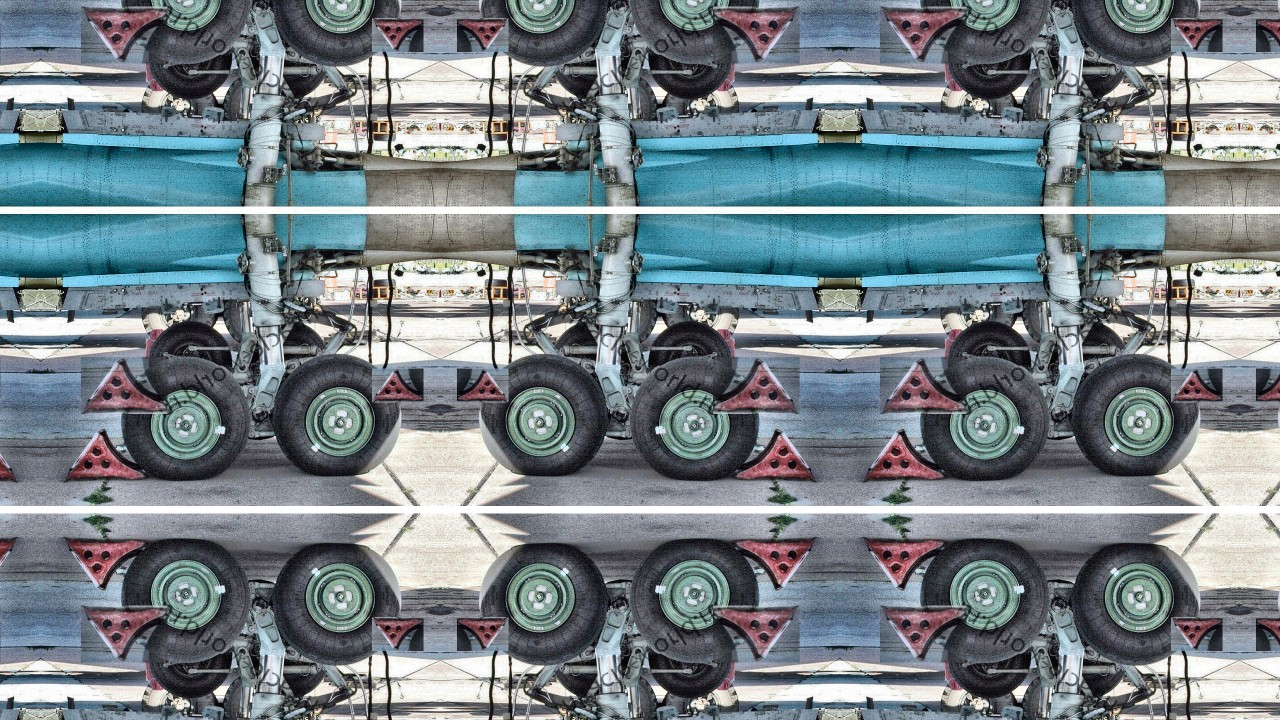chock: (81, 6, 167, 63), (713, 6, 799, 63), (881, 6, 967, 63), (81, 357, 167, 414), (713, 357, 799, 414), (881, 357, 967, 414), (81, 606, 167, 663), (713, 606, 799, 663), (881, 606, 967, 663), (62, 428, 145, 483), (735, 428, 818, 483), (862, 428, 945, 483), (62, 537, 145, 592), (735, 537, 818, 592), (862, 537, 945, 592), (372, 18, 423, 52), (457, 18, 508, 52), (1172, 18, 1223, 52), (372, 369, 423, 403), (457, 369, 508, 403), (1172, 369, 1223, 403), (372, 618, 423, 651), (457, 618, 508, 651), (1172, 618, 1223, 651), (0, 428, 18, 483), (0, 537, 18, 592), (1257, 18, 1280, 52), (1257, 369, 1280, 403), (1257, 618, 1280, 651)
wheel: (271, 352, 402, 477), (478, 352, 609, 477), (1071, 352, 1202, 477), (271, 543, 402, 668), (478, 543, 609, 668), (1071, 543, 1202, 668), (120, 355, 248, 482), (632, 355, 760, 482), (920, 355, 1048, 482), (120, 538, 248, 665), (632, 538, 760, 665), (920, 538, 1048, 665), (271, 0, 402, 68), (478, 0, 609, 68), (1071, 0, 1202, 68), (120, 0, 248, 65), (632, 0, 760, 65), (920, 0, 1048, 65), (148, 51, 232, 99), (648, 51, 732, 99), (948, 51, 1032, 99), (148, 321, 232, 369), (648, 321, 732, 369), (948, 321, 1032, 369), (148, 651, 232, 699), (648, 651, 732, 699), (948, 651, 1032, 699), (280, 60, 328, 98), (552, 60, 600, 98), (1080, 60, 1128, 98), (280, 322, 328, 360), (552, 322, 600, 360), (1080, 322, 1128, 360), (280, 660, 328, 698), (552, 660, 600, 698), (1080, 660, 1128, 698)
